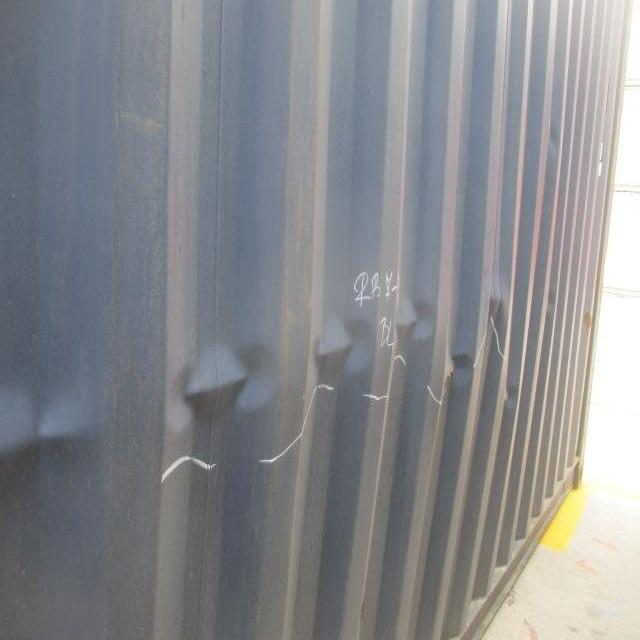dent: (303, 280, 523, 417), (164, 341, 284, 436), (2, 393, 103, 480)
